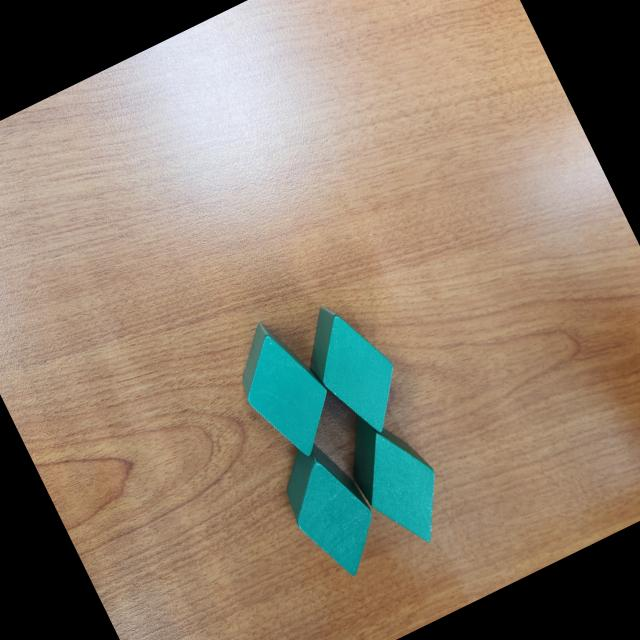green: (218, 308, 349, 472), (329, 395, 460, 558), (288, 289, 418, 446), (266, 432, 394, 588)
